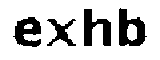b: (118, 4, 149, 52)
e: (13, 14, 44, 48)
h: (80, 6, 114, 48)
x: (46, 16, 77, 50)
